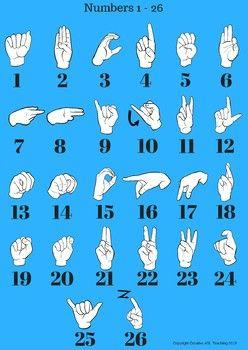No: (89, 30, 124, 69)
